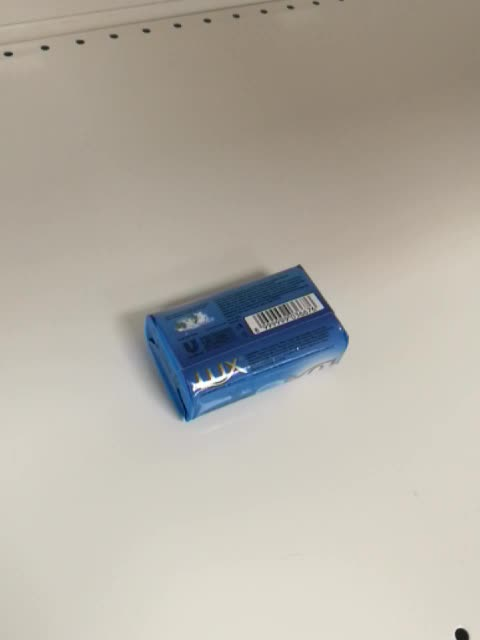soap: (143, 262, 351, 424)
